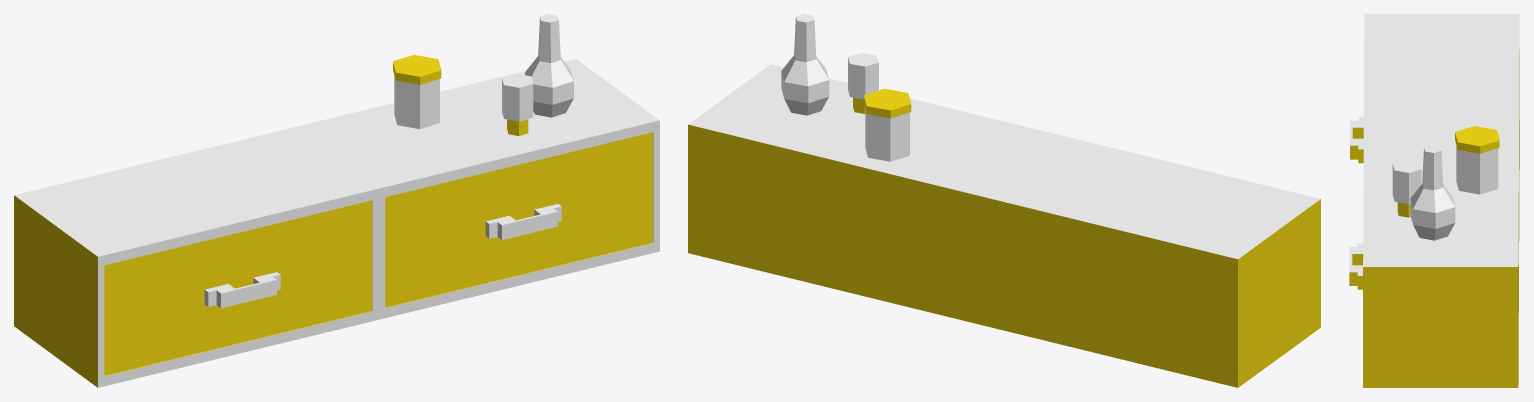
The model's file is s_komodin.obj.
The picture shows the model from 3 angles, left to right: view 1: azimuth 30°, elevation 25°; view 2: azimuth 150°, elevation 25°; view 3: azimuth 270°, elevation 25°; orthographic projection. The views are drawn at different scales.
Parts seen in each view (by area): view 1: cabinet.014_m_yellow, cabinet.014_m_white; view 2: cabinet.014_m_yellow, cabinet.014_m_white; view 3: cabinet.014_m_white, cabinet.014_m_yellow.
Part boxes in pixels (x1,y1,x2,y2): cabinet.014_m_yellow: (14,55,653,387); cabinet.014_m_white: (14,14,659,387); cabinet.014_m_yellow: (688,88,1320,387); cabinet.014_m_white: (688,14,1320,259); cabinet.014_m_white: (1349,14,1519,275); cabinet.014_m_yellow: (1349,49,1519,387).
Bounding box in the file's own units: 32.24 × 12.25 × 9.17.
